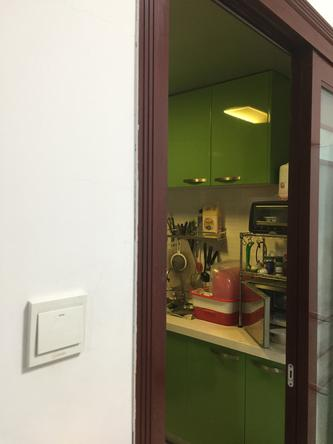switch: (34, 298, 87, 356)
